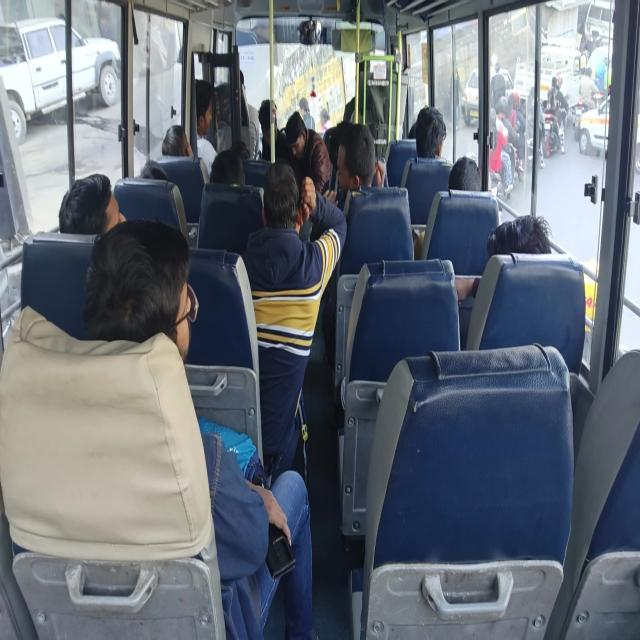person: (82, 217, 314, 638), (239, 159, 347, 469), (454, 214, 552, 302), (412, 155, 482, 259), (58, 172, 127, 235), (284, 111, 331, 194), (335, 122, 387, 194), (194, 79, 218, 175), (258, 99, 290, 162), (546, 75, 568, 153), (416, 105, 446, 158), (209, 149, 245, 185), (448, 155, 482, 191), (161, 124, 192, 157), (578, 65, 600, 111), (298, 97, 315, 131), (140, 160, 168, 180)
